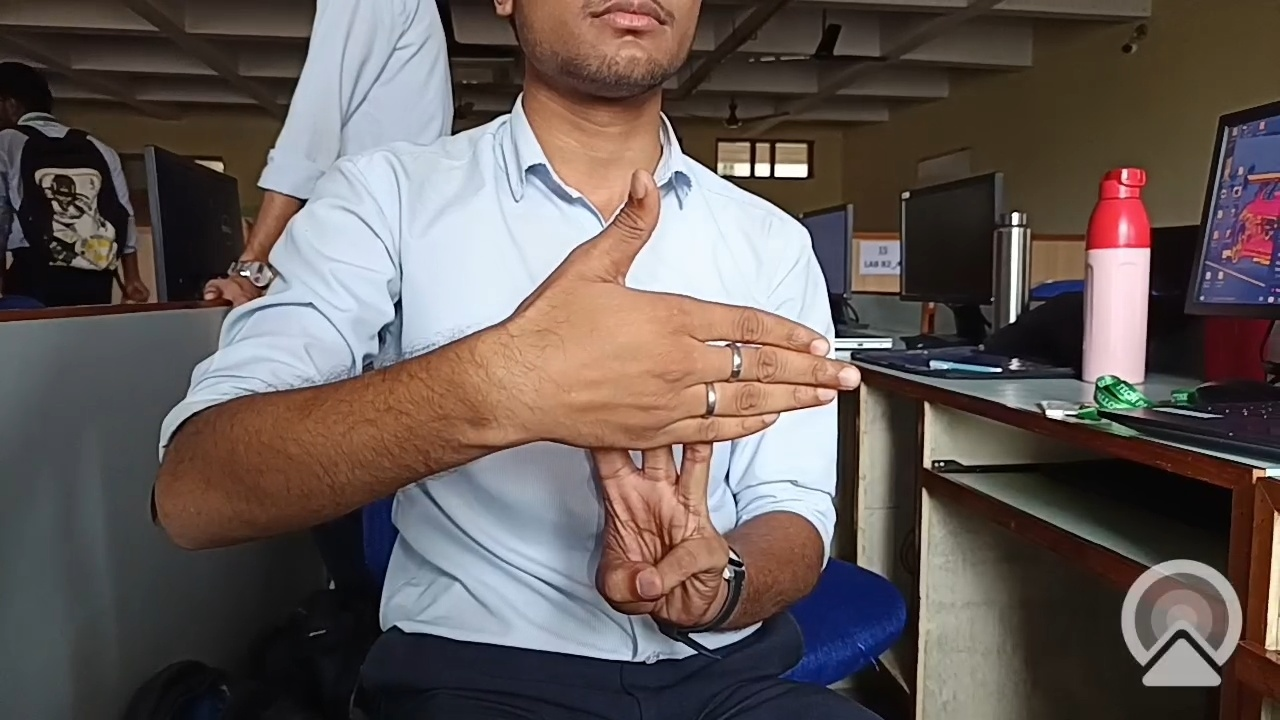M: (494, 140, 881, 616)
